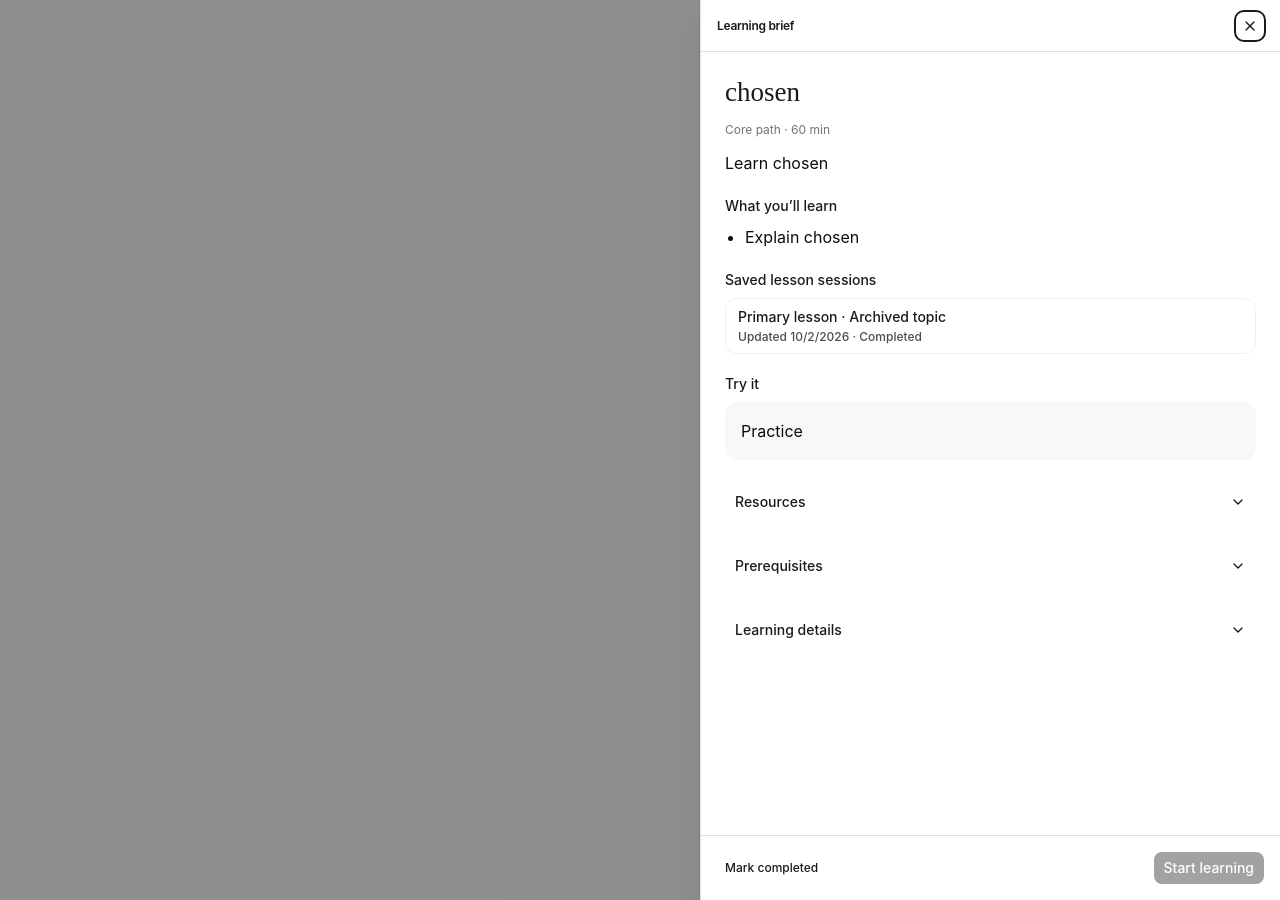
keeps archived lesson history resumable while disabling new sessions
Check: the button "Start learning" is disabled, box [1154, 852, 1264, 884]
Click the button "Learning details" at (788, 629), box [725, 608, 1256, 652]
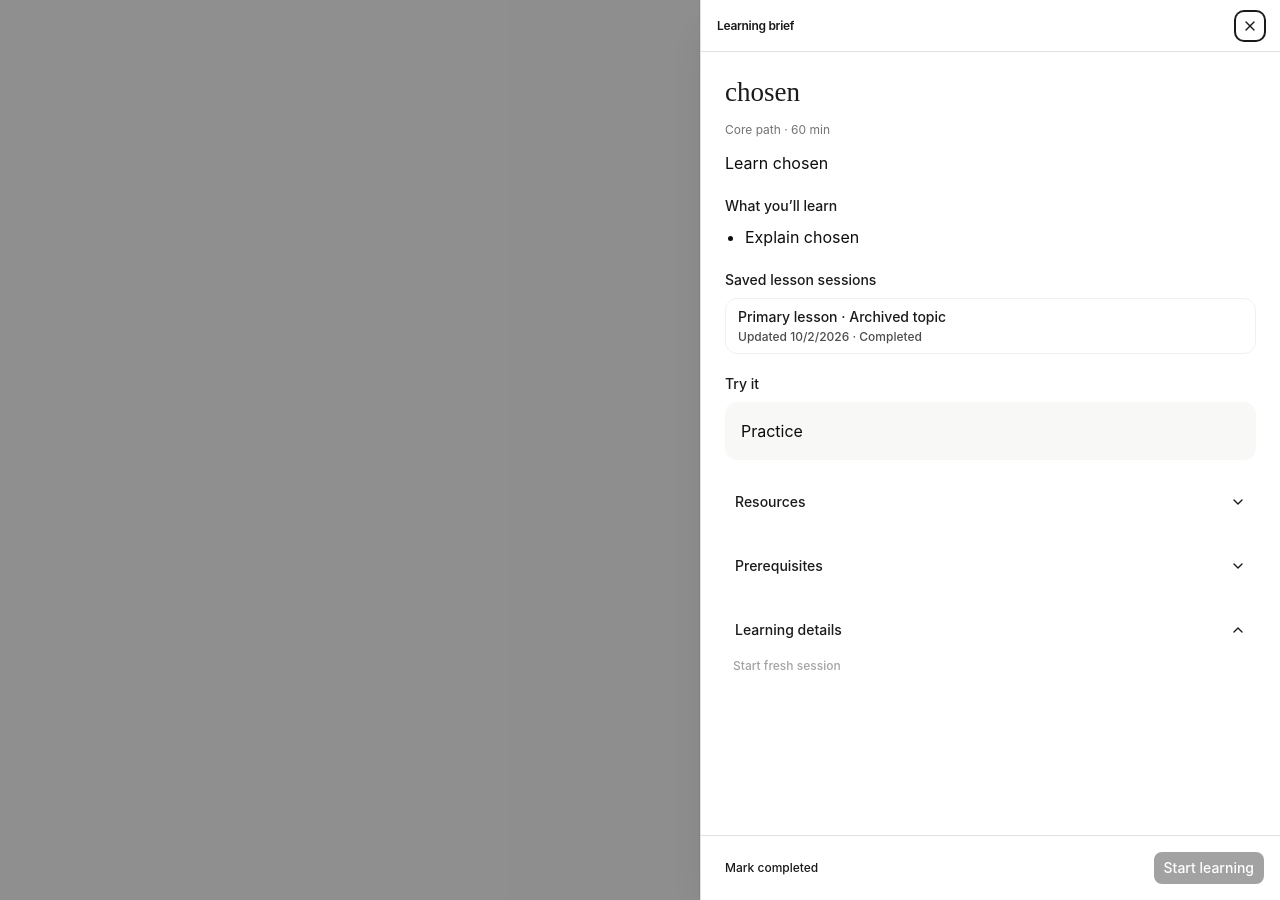
Check: the button with aria-label "Resume lesson session 1, archived topic" is enabled, box [725, 298, 1256, 354]
Check: the button with aria-label "Start a new lesson conversation" is disabled, box [725, 652, 849, 680]
